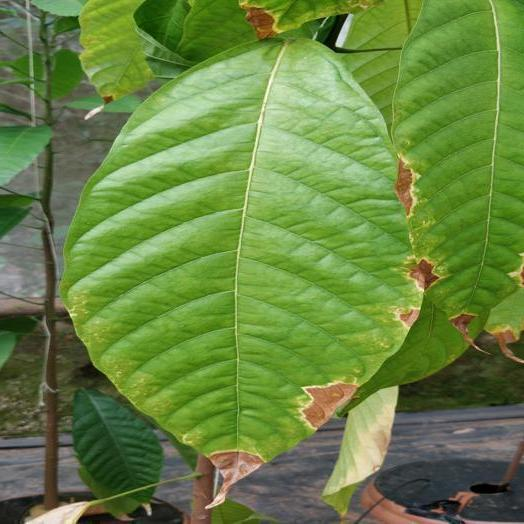Potassium: (62, 40, 421, 502), (391, 0, 523, 333)
